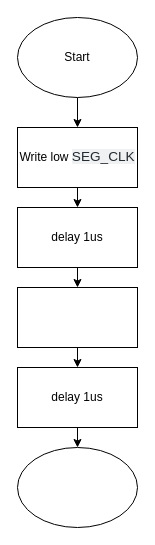
This 155x545 diagram has some shape labels left out. Each missing label, with the centre of its shape:
"END" goes at point (77, 487).
"Write high SEG_CLK" goes at point (77, 317).
